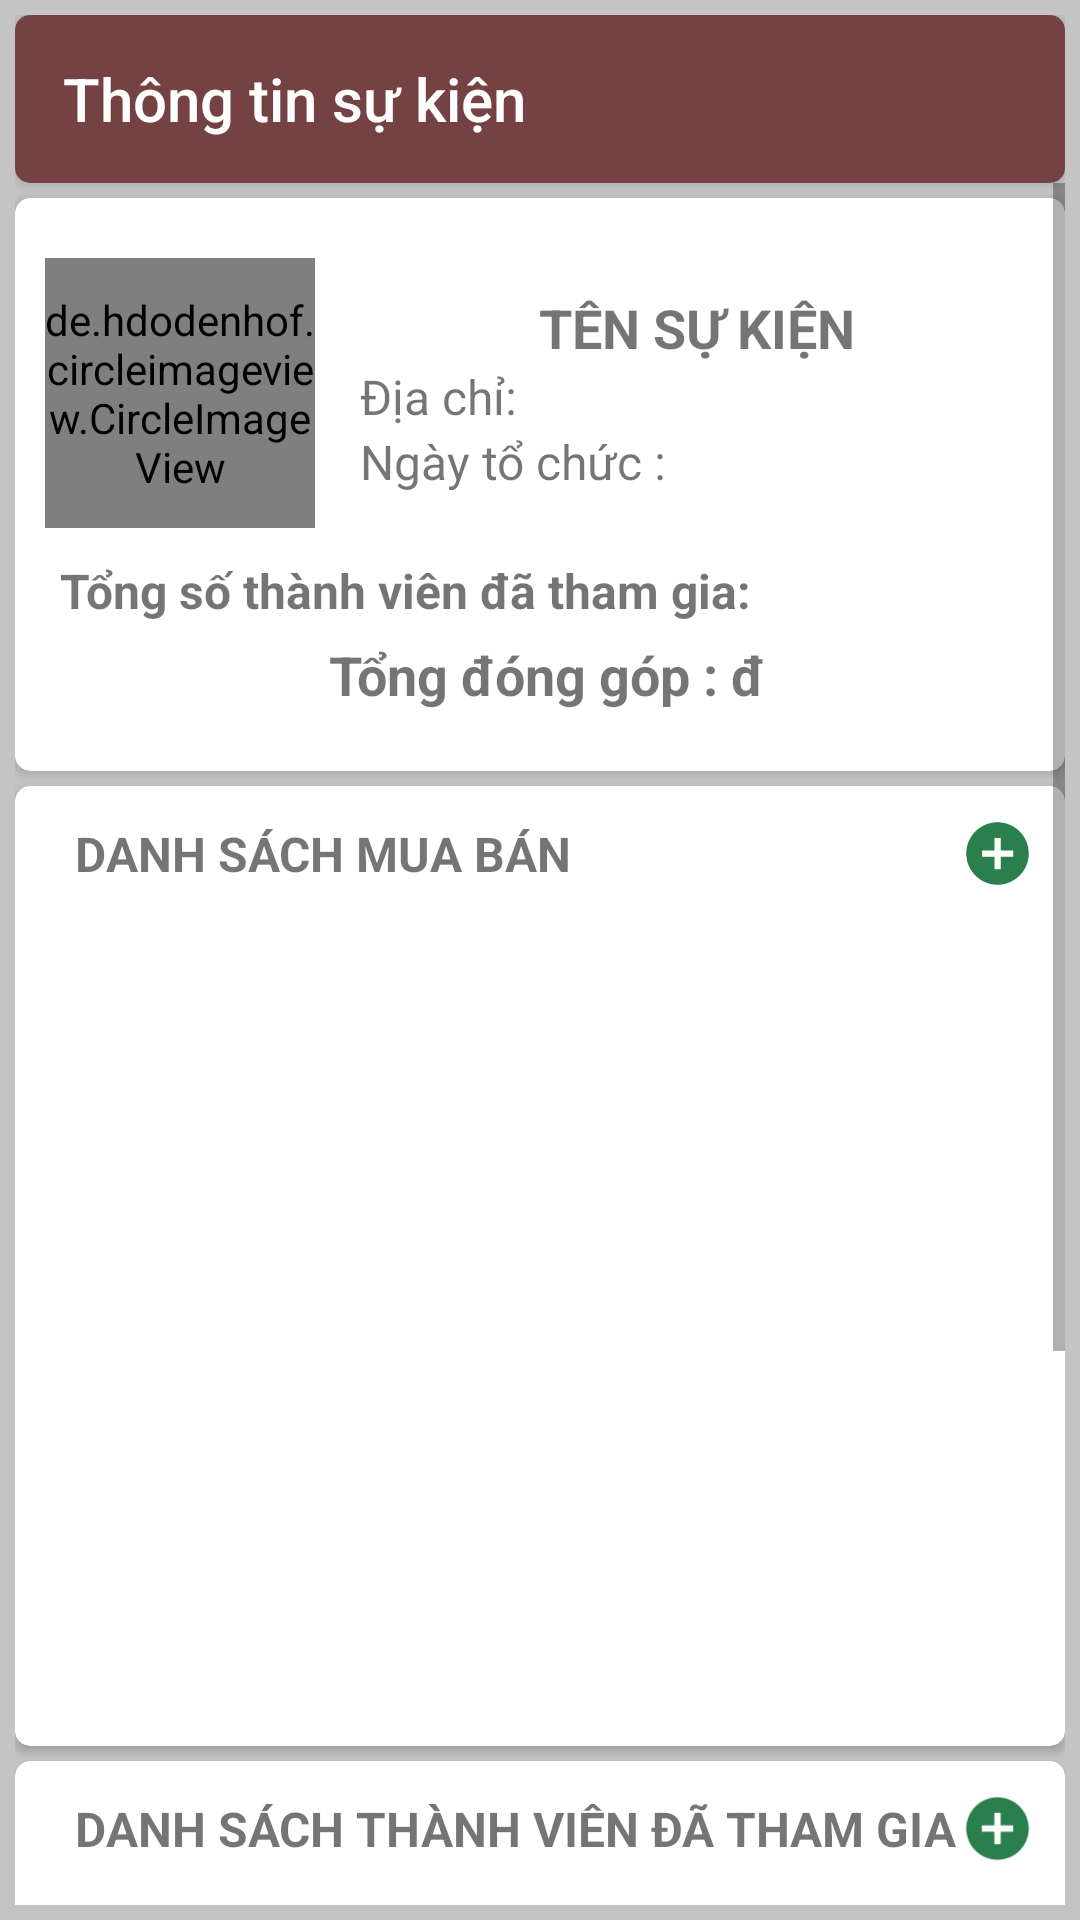

Named icons in this screenshot (1080px x 1920px) and their centers, [x,y]:
add circle: [997,853], [998,1829]
